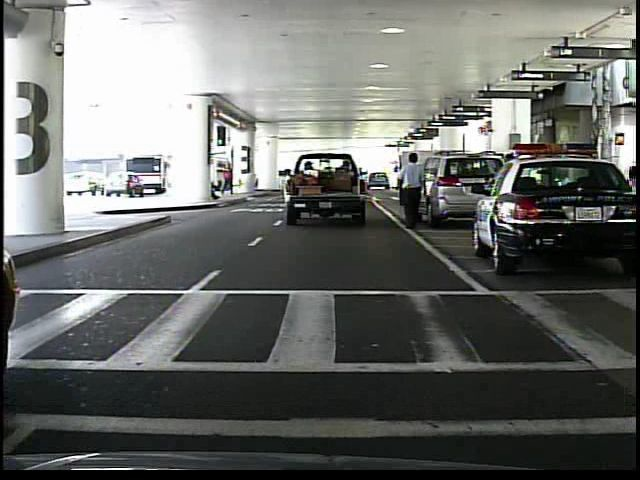person: (396, 153, 434, 231), (221, 160, 237, 198)
